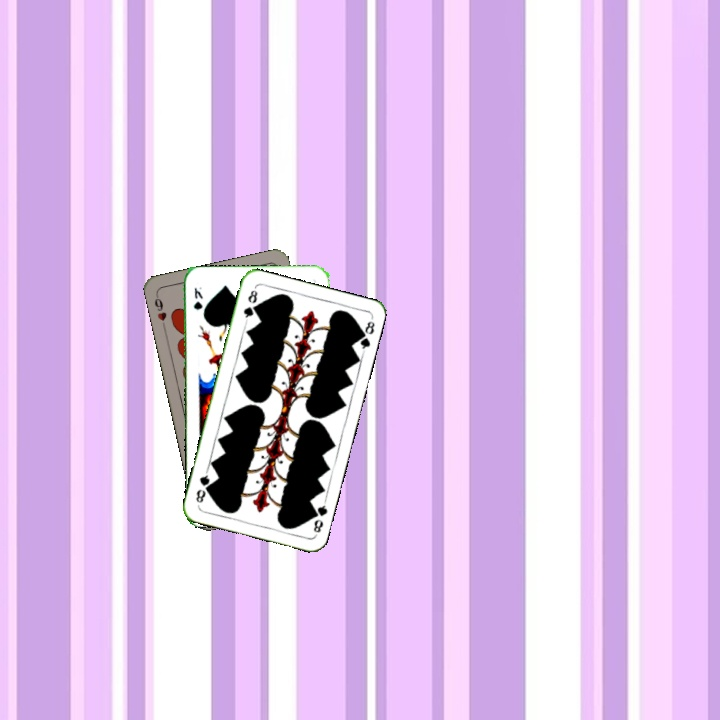G8: (307, 497, 330, 537), (239, 286, 260, 324)
GK: (190, 283, 205, 312)
H9: (150, 290, 169, 331)
